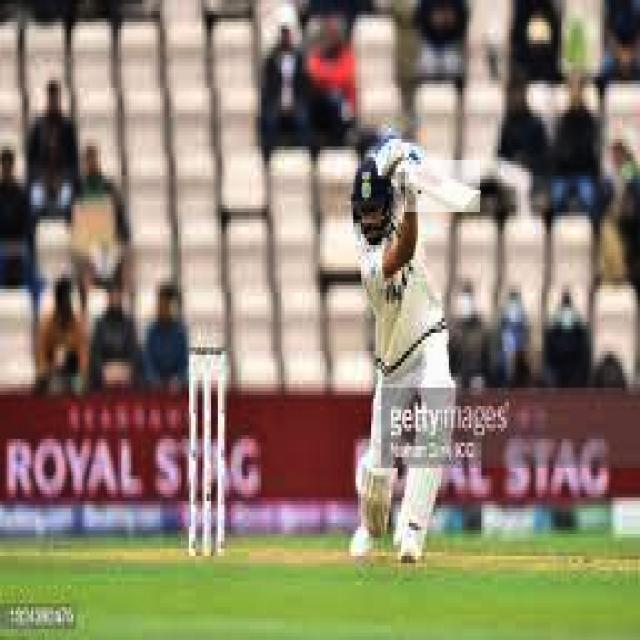bat: (404, 158, 481, 214)
